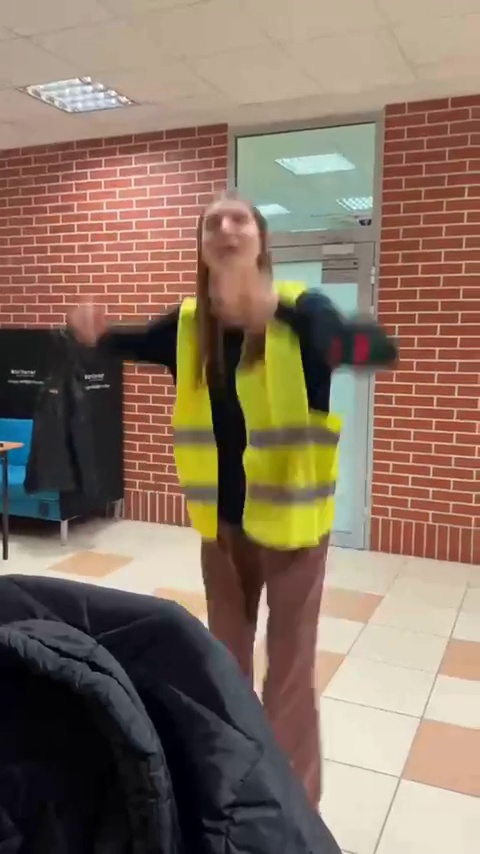vest: (117, 192, 404, 743)
